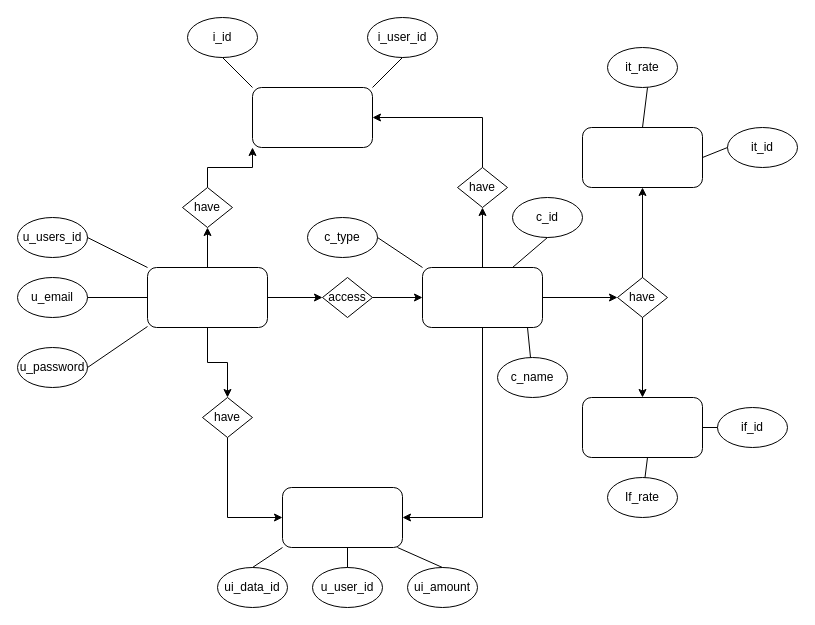
The diagram is 815 pixels wide and 625 high, and some of its shapes have lost their labels. Each missing label, with the box of its shape:
Charts: (422, 266, 542, 328)
IncomeData: (252, 86, 372, 148)
InflationData: (582, 396, 702, 458)
InterestData: (582, 126, 702, 188)
UserIncome: (282, 486, 402, 548)
Users: (146, 266, 268, 328)
